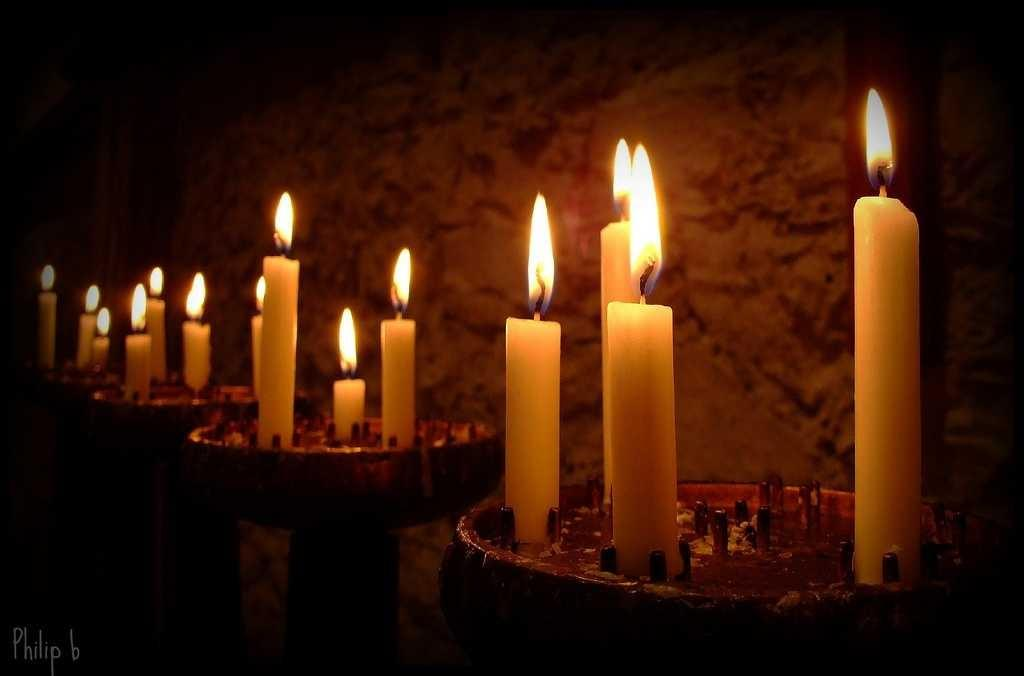fire: (607, 132, 673, 292), (858, 85, 912, 197), (522, 190, 562, 308), (262, 178, 313, 253), (387, 240, 425, 315), (333, 302, 368, 378), (120, 272, 152, 337), (183, 267, 210, 323), (82, 282, 108, 337), (37, 255, 62, 297)
